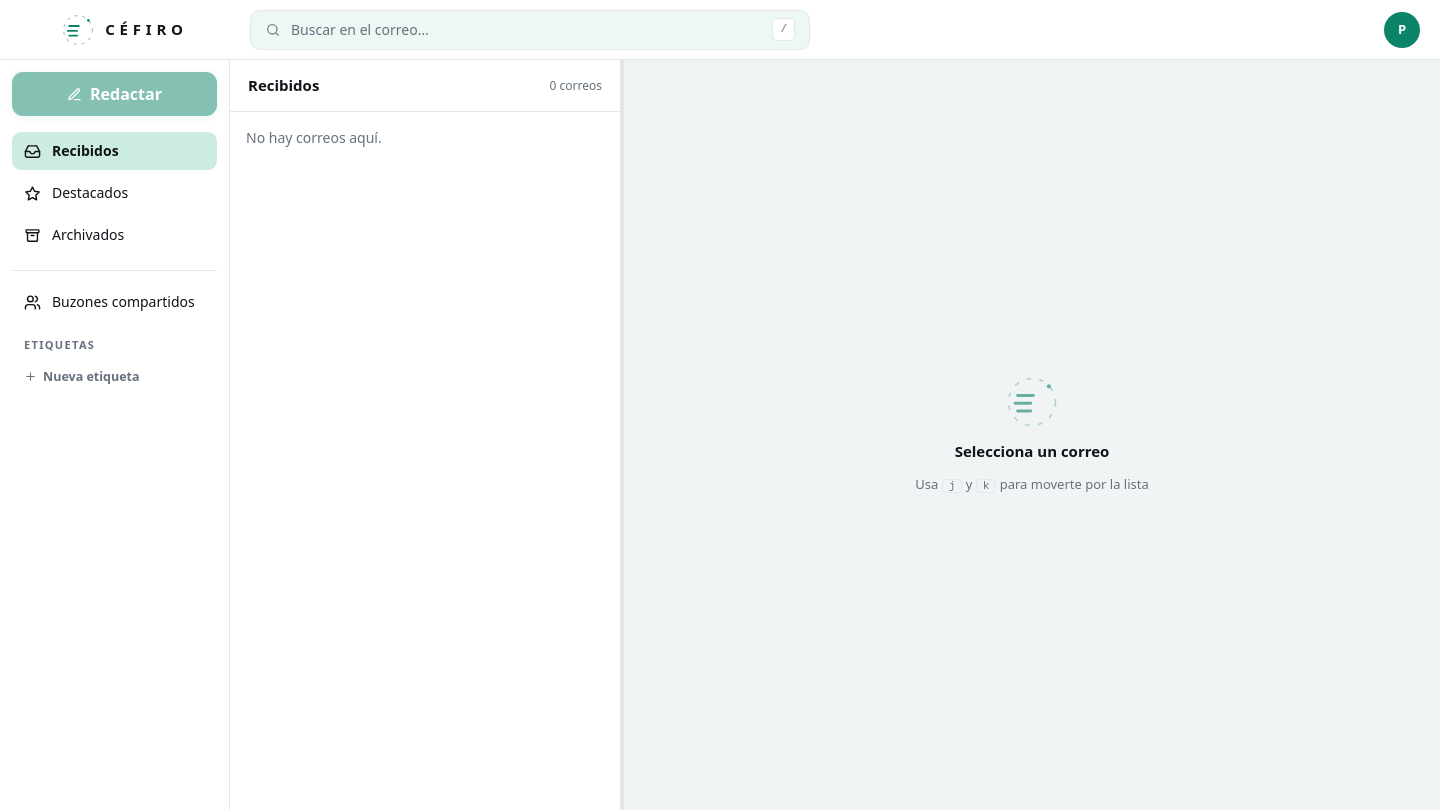
it: starred view › clicking Destacados requests flagged messages without a mailboxId and shows the starred title
Click the button "Destacados".
click(114, 193)  # box x1=12 y1=174 x2=217 y2=212
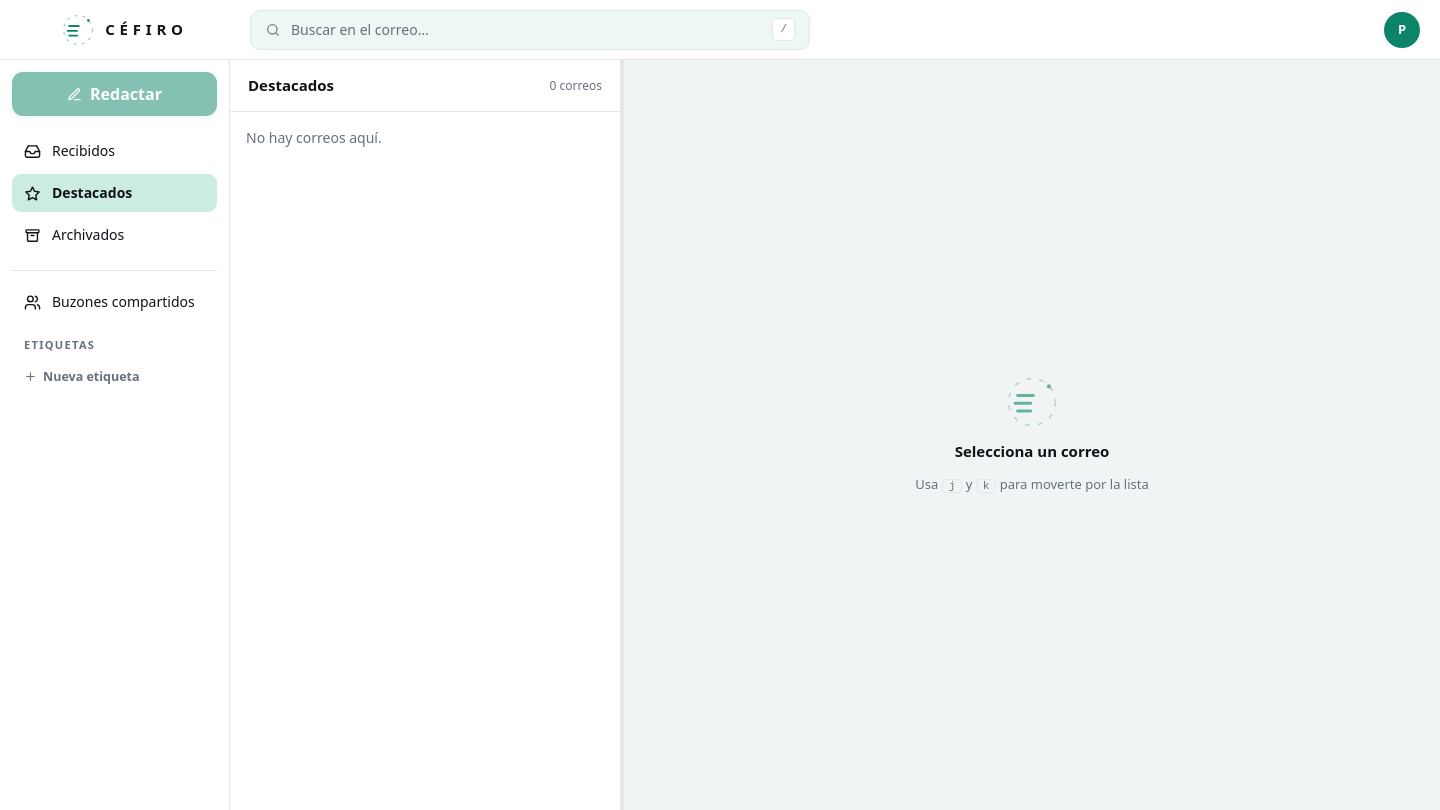
Expected: the heading "Destacados" is shown, x1=248 y1=74 x2=334 y2=97
